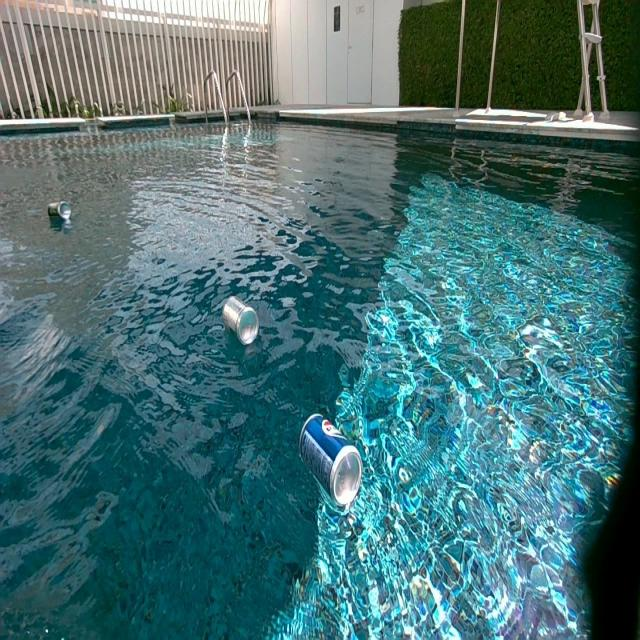Cans: (300, 412, 364, 511), (224, 298, 262, 345), (48, 203, 70, 223)
